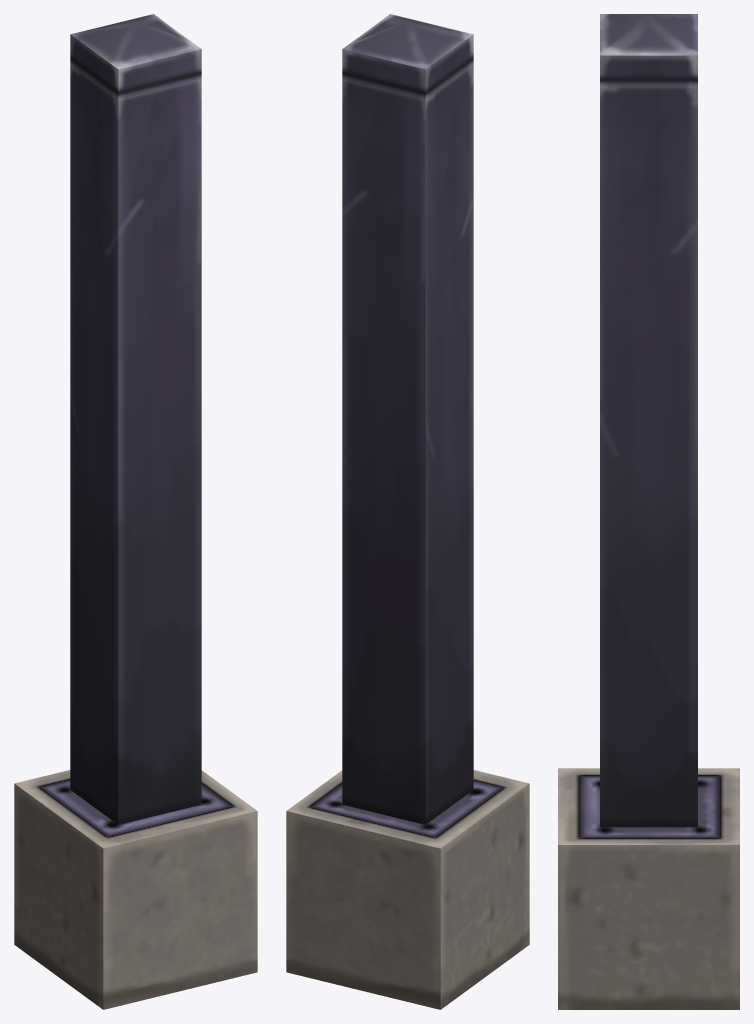
The model's file is fence_iron_pole.fbx.
The picture shows the model from 3 angles, left to right: view 1: azimuth 30°, elevation 25°; view 2: azimuth 150°, elevation 25°; view 3: azimuth 270°, elevation 25°; orthographic projection. The views are drawn at different scales.
Parts seen in each view (by area): view 1: fence_iron_pole; view 2: fence_iron_pole; view 3: fence_iron_pole.
Boxes of the visible parts, x1=… form: fence_iron_pole: x1=14, y1=14, x2=257, y2=1009; fence_iron_pole: x1=286, y1=14, x2=529, y2=1009; fence_iron_pole: x1=558, y1=14, x2=739, y2=1009.
Bounding box in the file's own units: 25 × 145 × 25.
